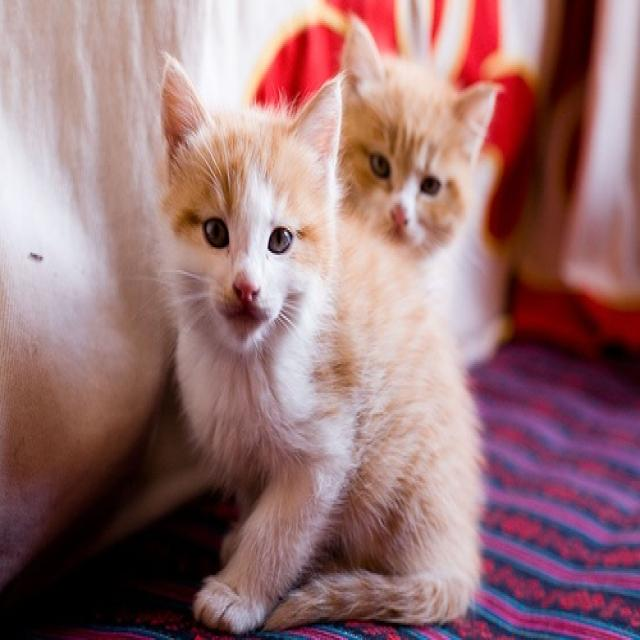cat: (149, 59, 481, 630), (334, 26, 509, 252)
